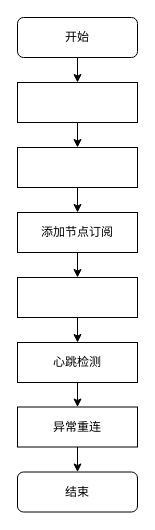
Image size: 155x530. Some labels were removed from this diagram. Each missing label, with the box of its shape:
建立OPC UA连接: (16, 82, 138, 122)
订阅回调处理: (16, 276, 138, 318)
配置身份认证: (16, 146, 138, 188)
